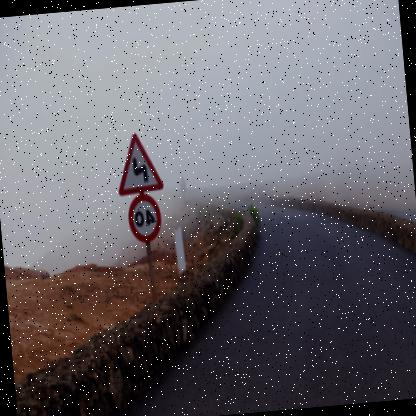speedlimit: (126, 188, 165, 238)
